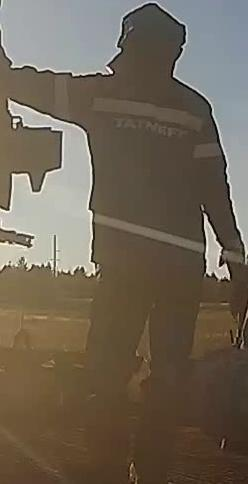gloves: (214, 242, 248, 300)
vest: (51, 70, 211, 286)
